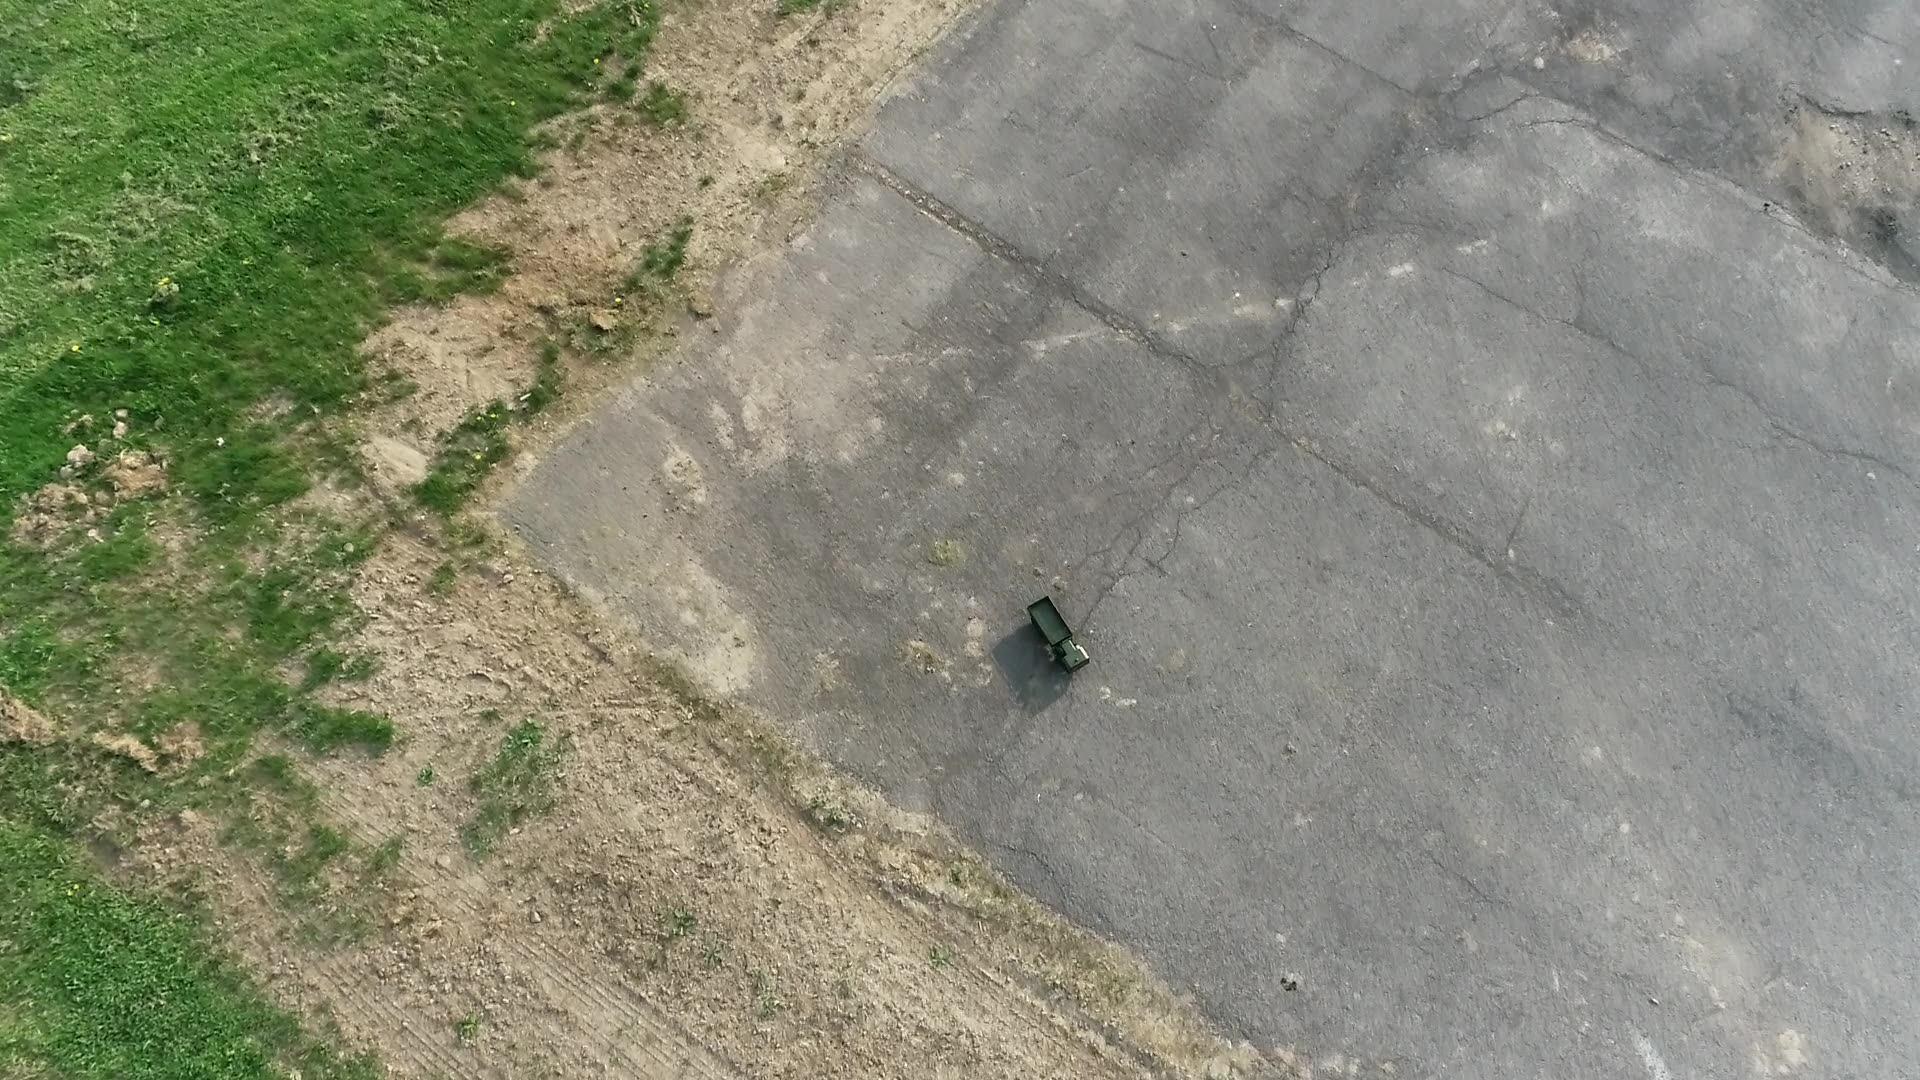transporter9: (1021, 592, 1092, 675)
